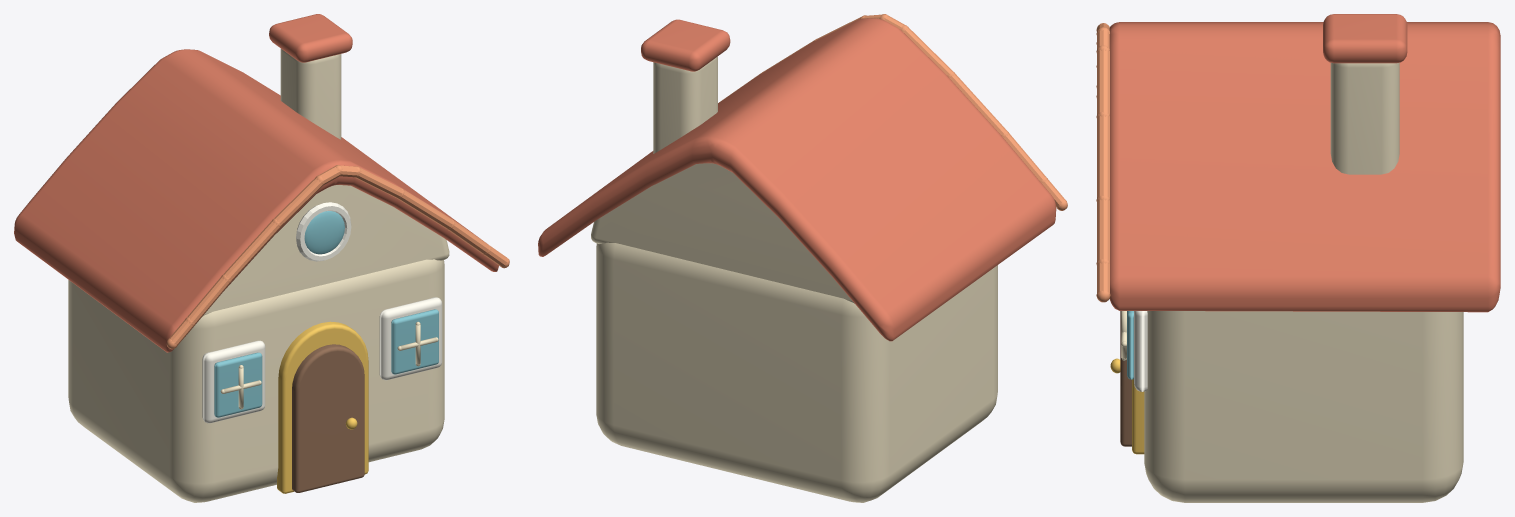
File: house.glb
The picture shows the model from 3 angles, left to right: view 1: azimuth 30°, elevation 25°; view 2: azimuth 150°, elevation 25°; view 3: azimuth 270°, elevation 25°; orthographic projection. The views are drawn at different scales.
Visible parts, largest first — view 1: house; view 2: house; view 3: house.
Part boxes in pixels (x1,y1,x2,y2): house: (14,14,509,502); house: (538,14,1067,502); house: (1096,14,1500,502).
Size of the model in its own units: 1.89 by 1.97 by 1.58.
